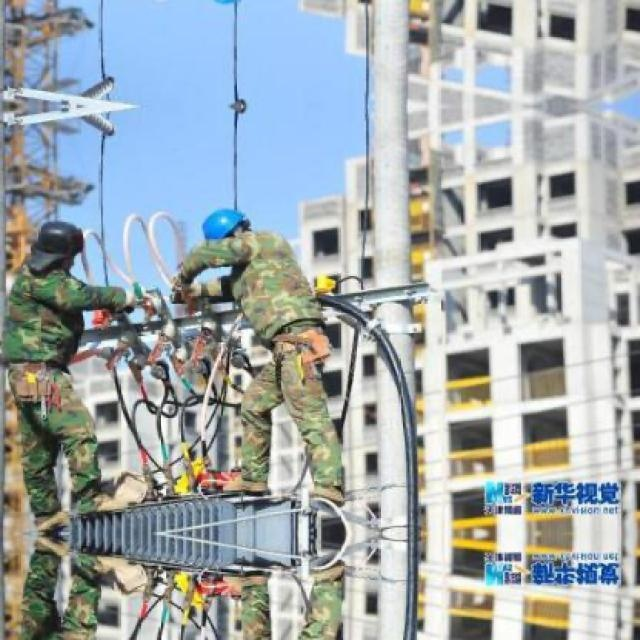Arnes_seguridad: (3, 348, 67, 410), (260, 322, 330, 371)
